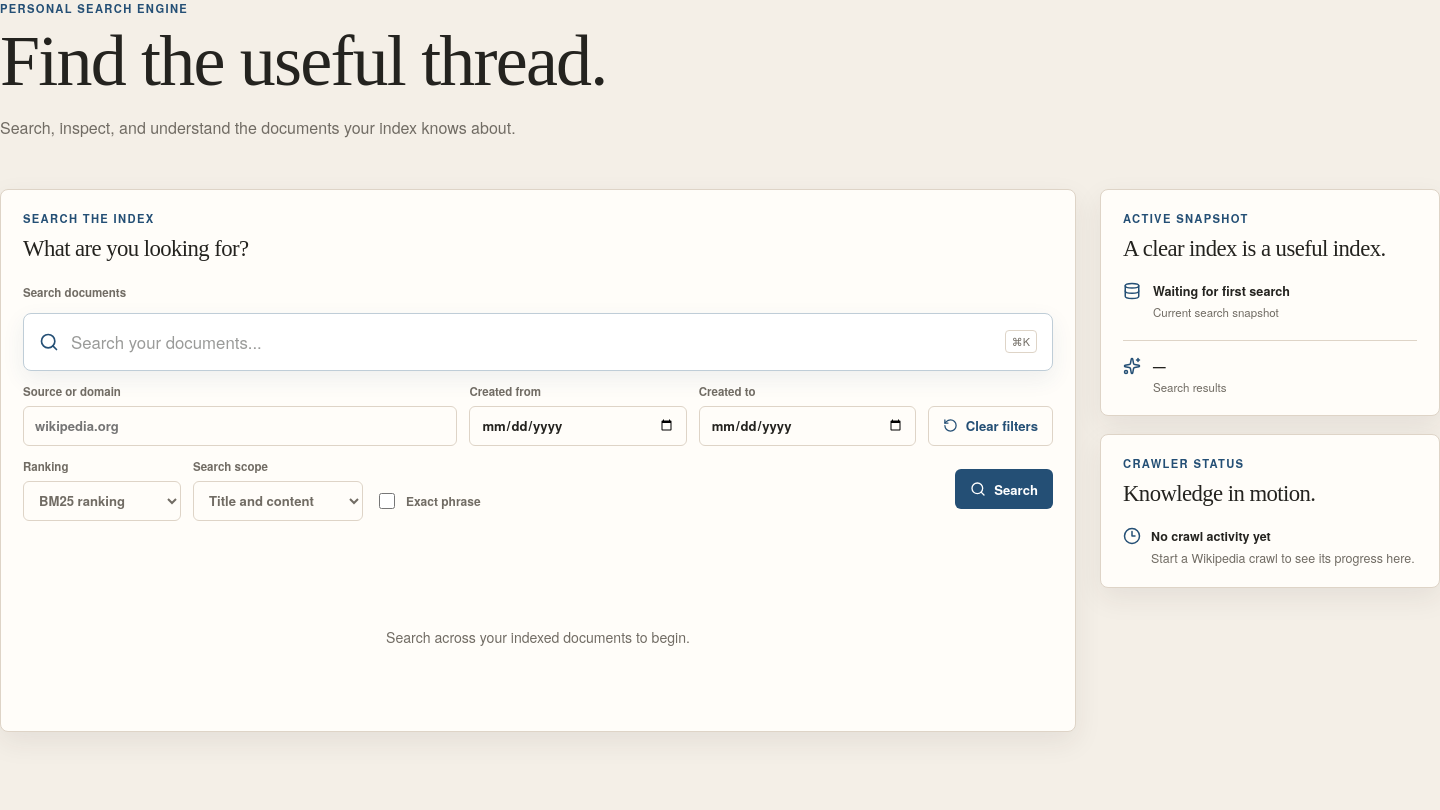
Test: WorkspacePage › renders the echoed applied-filter summary
Type "ranking" into the search field labelled "Search documents" at coordinates (532, 342), box x1=69 y1=329 x2=995 y2=355
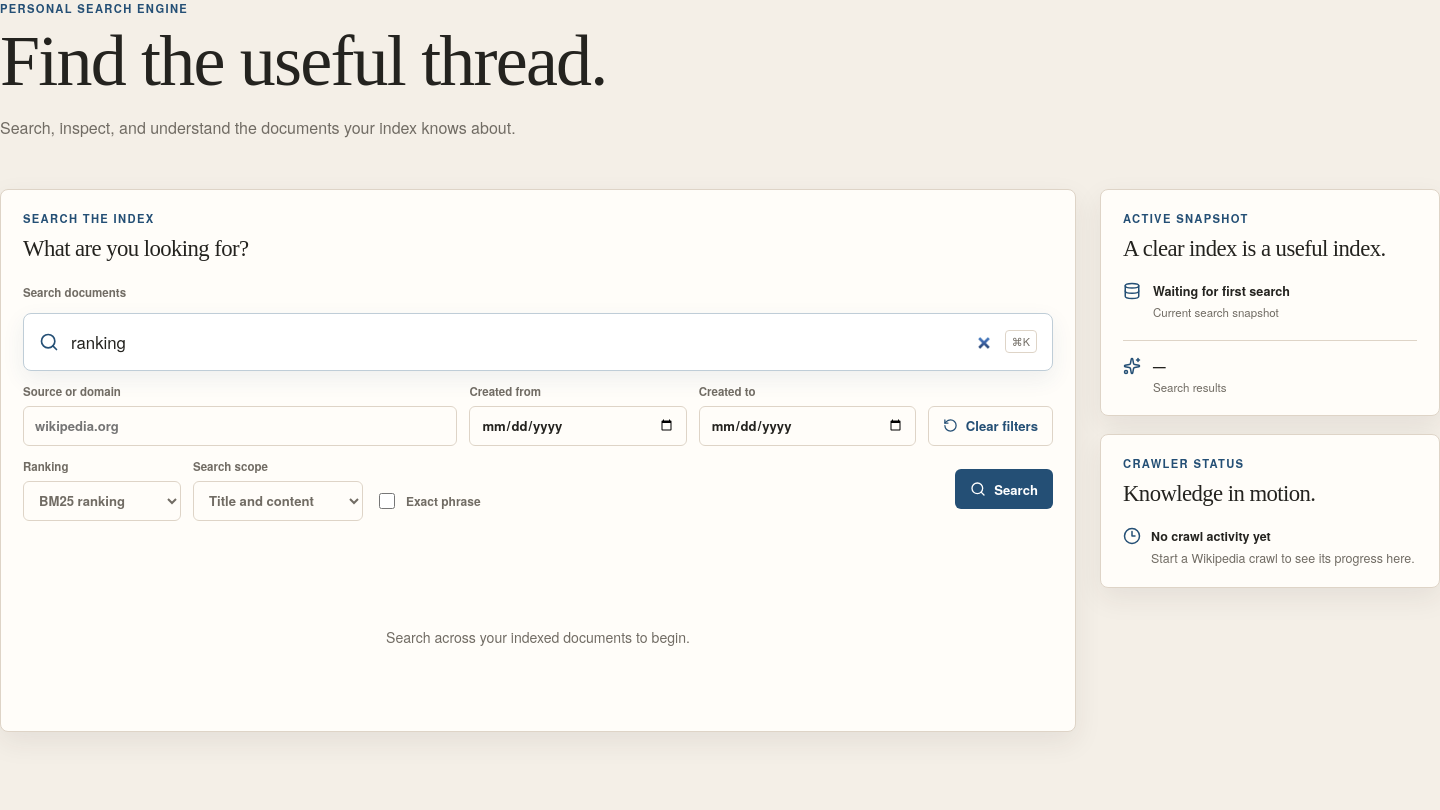
Click the button "Search" at coordinates (1004, 489), box x1=955 y1=469 x2=1053 y2=509
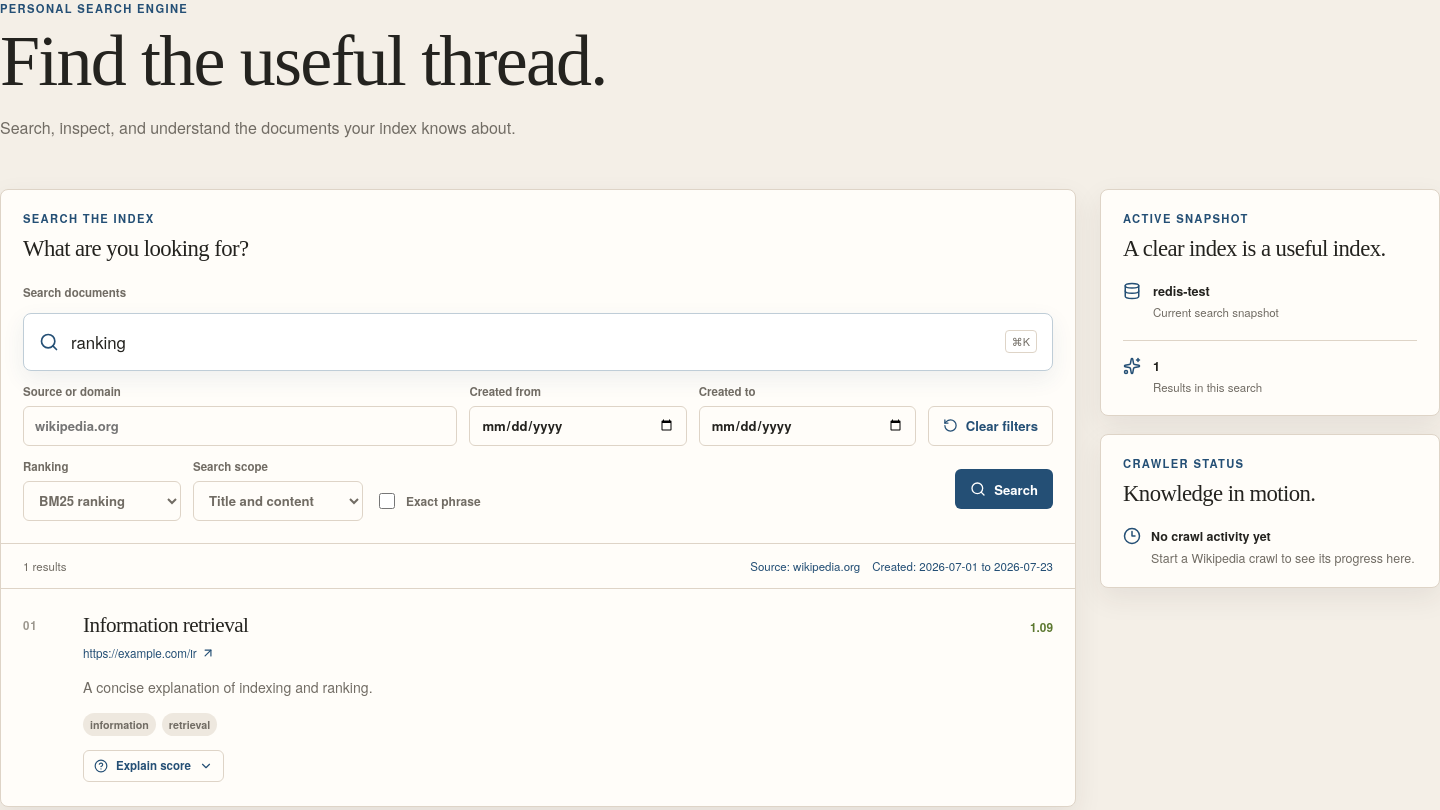
Expected: the text "Source: wikipedia.org" is shown, x1=750 y1=558 x2=860 y2=574
Expected: the text "Created: 2026-07-01 to 2026-07-23" is shown, x1=872 y1=558 x2=1053 y2=574
